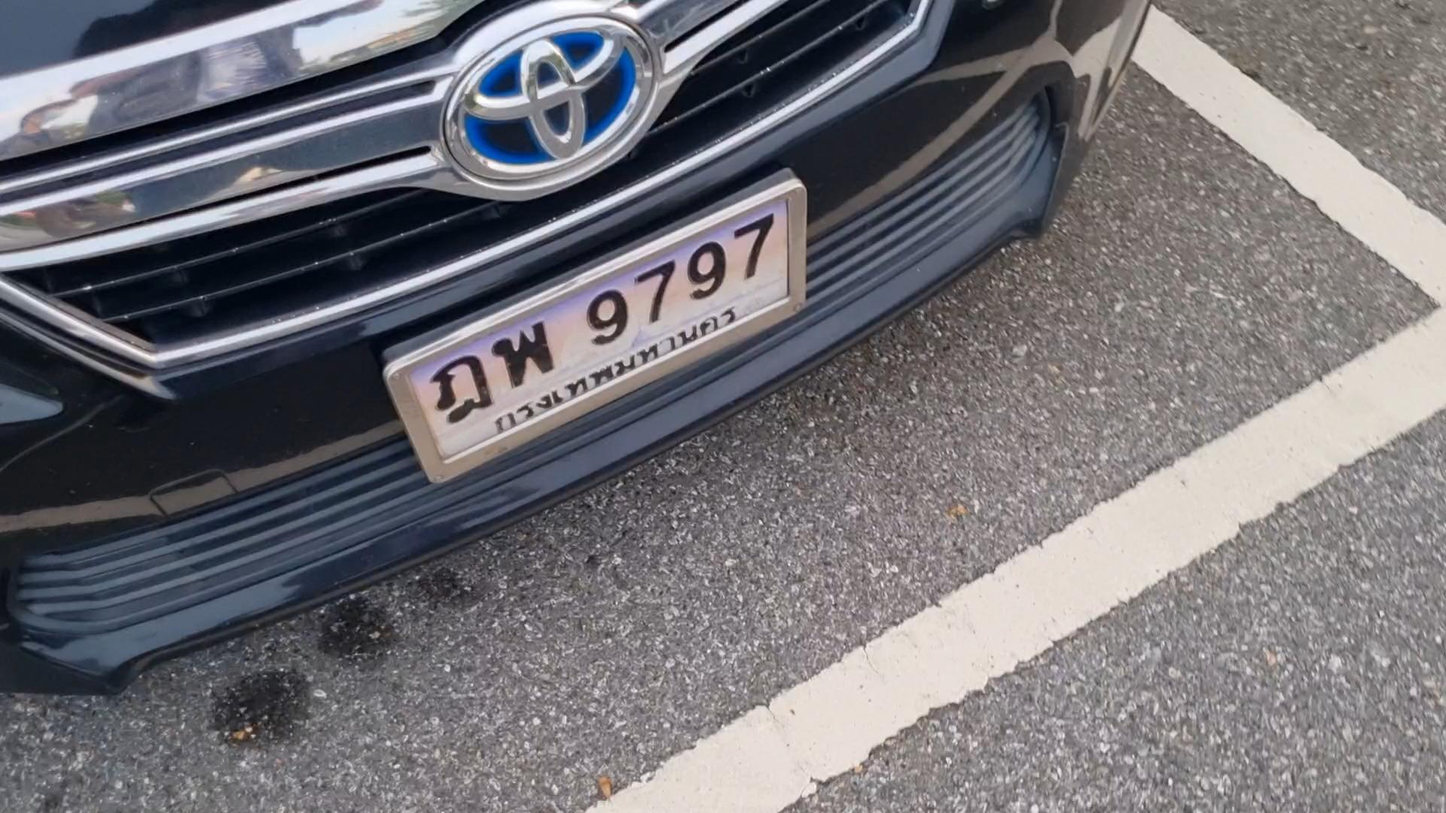license-plate: (376, 156, 810, 492)
